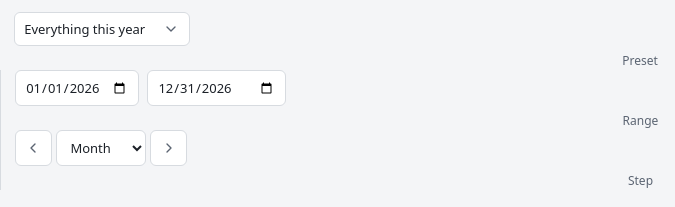
it: DateRangeFilterComponent › switches to a custom range when a date is edited and treats a cleared input as open
Clear the 2nd date field at (216, 88), box [147,70,286,106]
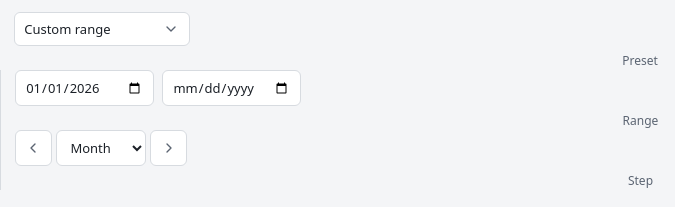
Expected: the button with class "date-range-filter__trigger" reads "Custom range", [14,12,190,46]
